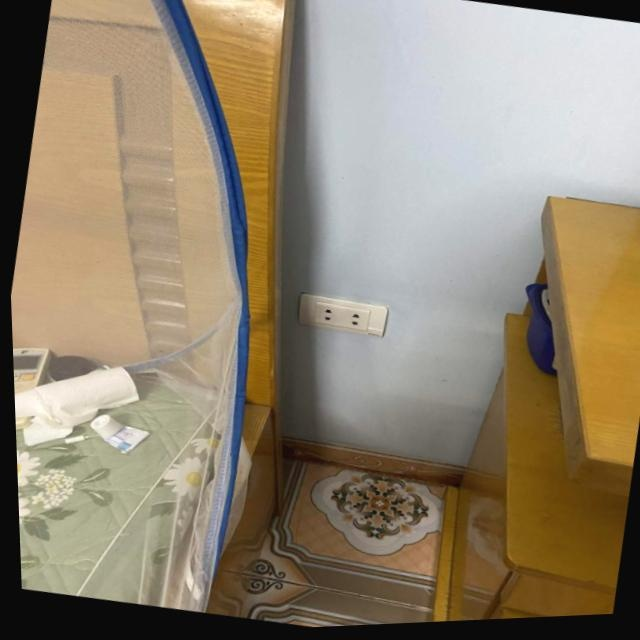outlet: (293, 288, 390, 341)
